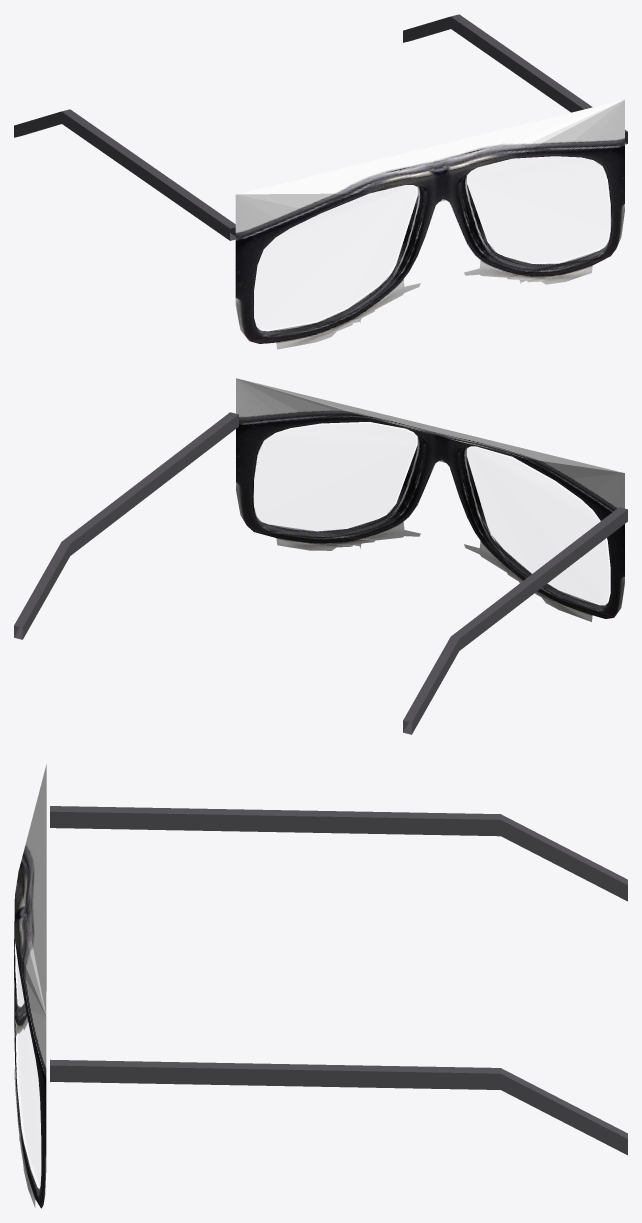
The model's file is gothamstyle-199_black.glb.
3 renders of one model, top to bottom at view 1: azimuth 30°, elevation 25°; view 2: azimuth 150°, elevation 25°; view 3: azimuth 270°, elevation 25°, orthographic. The views are drawn at different scales.
Parts seen in each view (by area): view 1: frame_front, temple_viewer_left, temple_viewer_right; view 2: frame_front, temple_viewer_left, temple_viewer_right; view 3: temple_viewer_left, temple_viewer_right, frame_front.
Boxes of the visible parts, x1=… form: frame_front: x1=235, y1=99, x2=624, y2=349; temple_viewer_left: x1=14, y1=109, x2=235, y2=240; temple_viewer_right: x1=403, y1=14, x2=627, y2=144; frame_front: x1=236, y1=378, x2=624, y2=621; temple_viewer_left: x1=403, y1=507, x2=627, y2=734; temple_viewer_right: x1=14, y1=412, x2=238, y2=639; temple_viewer_left: x1=50, y1=806, x2=627, y2=901; temple_viewer_right: x1=50, y1=1059, x2=627, y2=1155; frame_front: x1=14, y1=764, x2=46, y2=1208.
Size of the model in its own units: 0.136 by 0.0527 by 0.136.
Materials: 3 (2 with a texture image).
